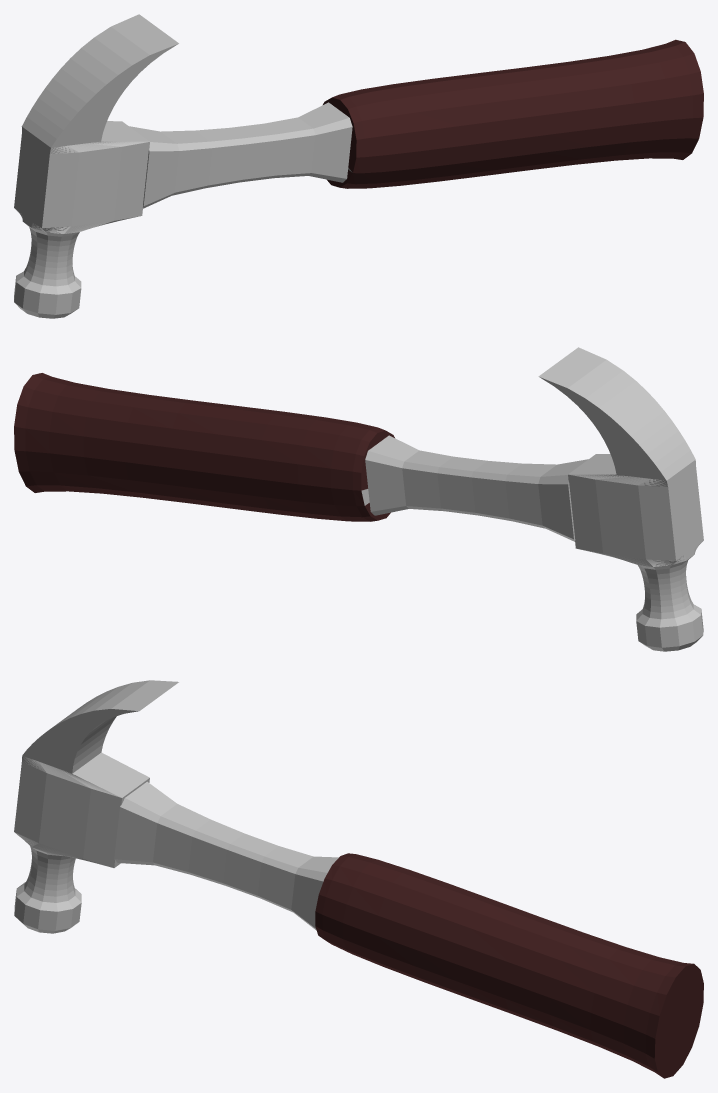
File: hamer.fbx
3 renders of one model, top to bottom at view 1: azimuth 30°, elevation 25°; view 2: azimuth 150°, elevation 25°; view 3: azimuth 330°, elevation 25°, orthographic.
Parts seen in each view (by area): view 1: Layer_Obje; view 2: Layer_Obje; view 3: Layer_Obje.
Boxes of the visible parts, x1=… form: Layer_Obje: x1=14, y1=14, x2=703, y2=318; Layer_Obje: x1=14, y1=347, x2=703, y2=651; Layer_Obje: x1=14, y1=680, x2=703, y2=1078.
Size of the model in its own units: 15.27 by 5.57 by 1.91.
